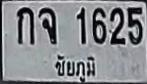1: (76, 7, 85, 43)
2: (110, 7, 124, 44)
5: (126, 6, 142, 44)
6: (92, 7, 105, 43)
A01: (16, 6, 34, 44)
A08: (38, 7, 56, 44)
CPM: (53, 52, 95, 83)
